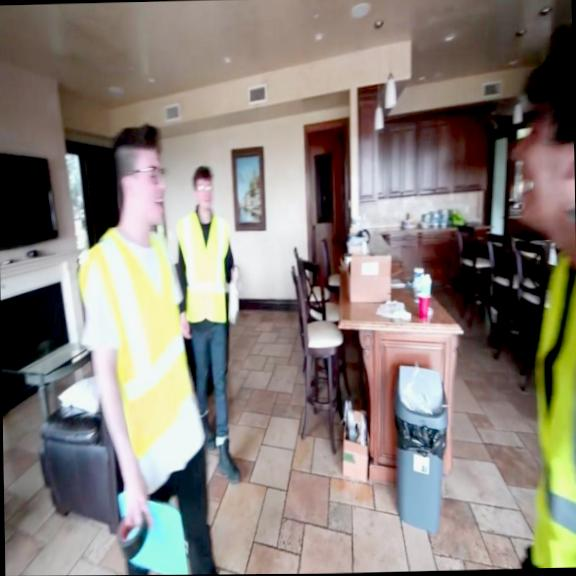safety_vest: (78, 219, 196, 458), (524, 251, 576, 568), (176, 209, 233, 324)
